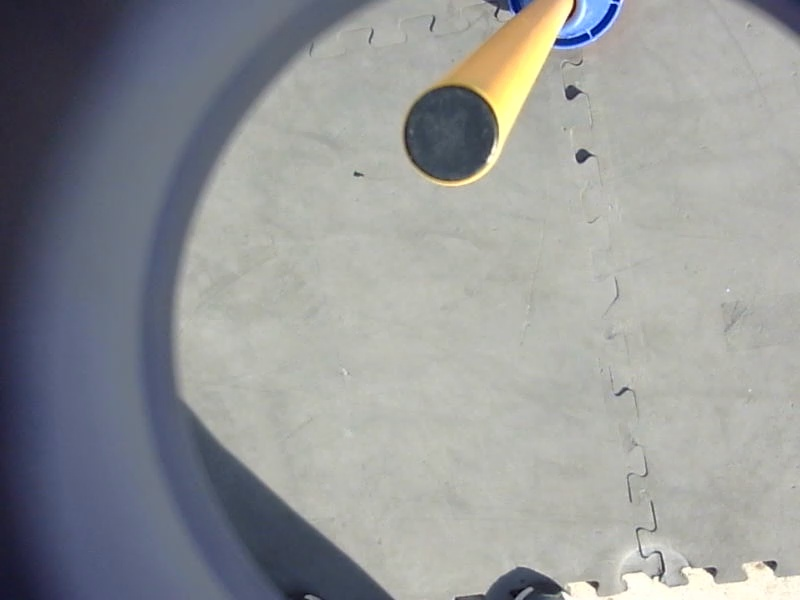tip: (397, 78, 510, 191)
